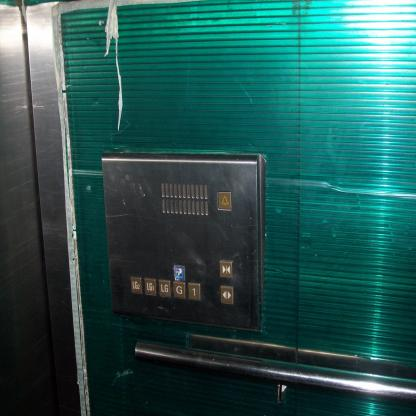1: (187, 281, 201, 301)
G: (172, 280, 186, 299)
LG: (158, 278, 171, 298)
LG1: (143, 276, 157, 296)
LG2: (129, 275, 143, 296)
alarm: (216, 190, 232, 211)
close: (218, 259, 233, 280)
open: (219, 284, 234, 305)
